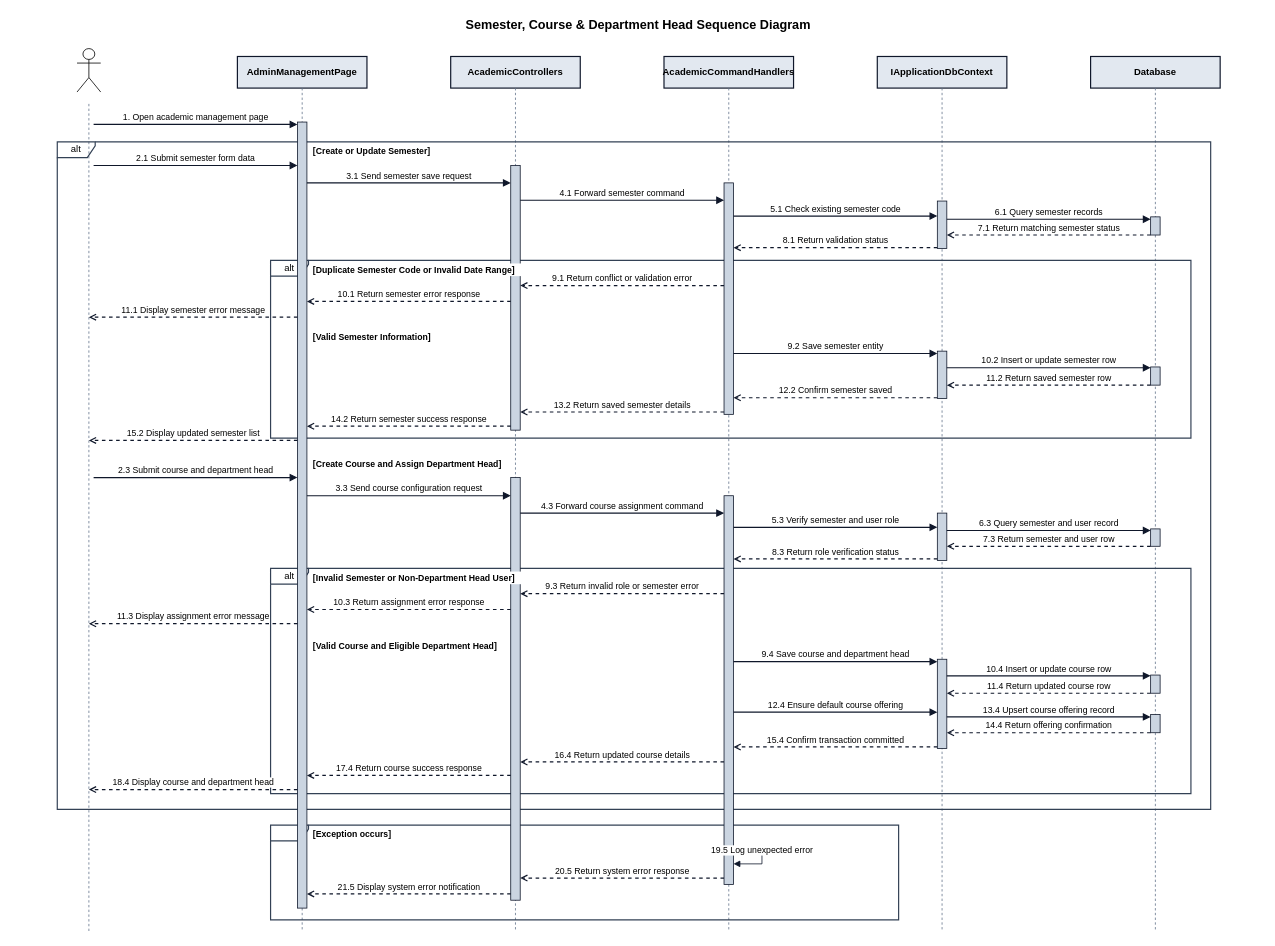
Image size: 1275x946. Some labels were removed from this diagram. The box of each missing label's shape, as (x1, y1, x2, y2) in pixels:
Administrator: (76, 48, 101, 92)
opt: (270, 824, 899, 920)
